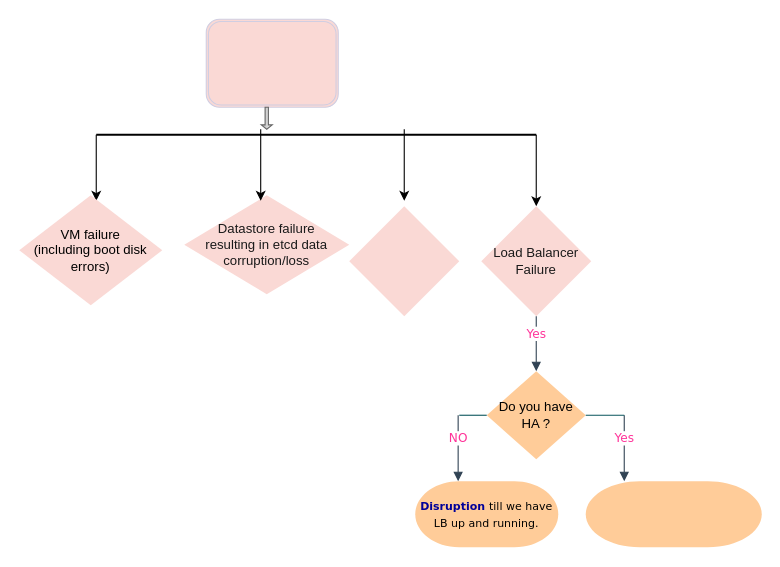
The diagram is 780 pixels wide and 567 high, and some of its shapes have lost their labels. The shapes that lost their labels are listed below. From the top down, each one's box as (x1, y1, x2, y2) in pixels, then its label:
(205, 18, 338, 107): Failure Mode
(349, 206, 459, 316): ESXi failure
(585, 481, 761, 547): Small Distruption on Application / Admin / User Cluster
